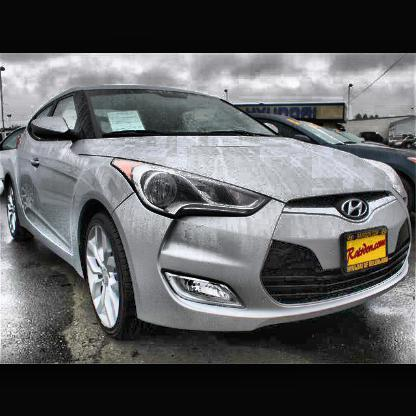Hyundai Veloster Hatchback 2012: (2, 83, 416, 337)
